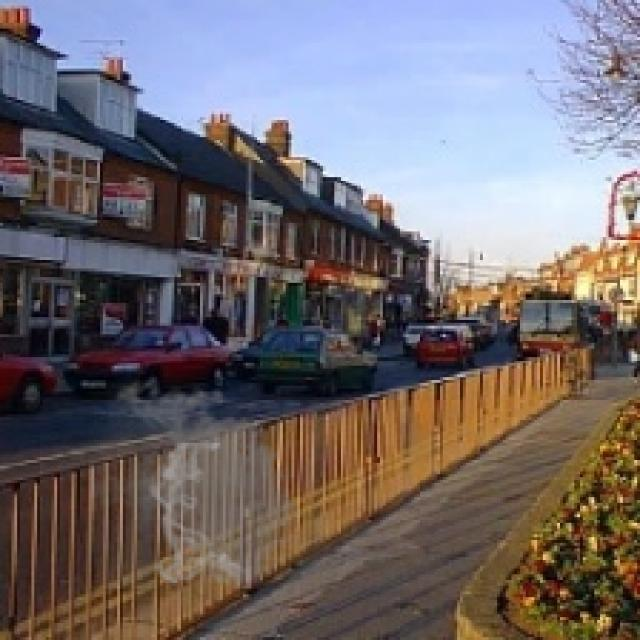smoke: (88, 374, 312, 592)
